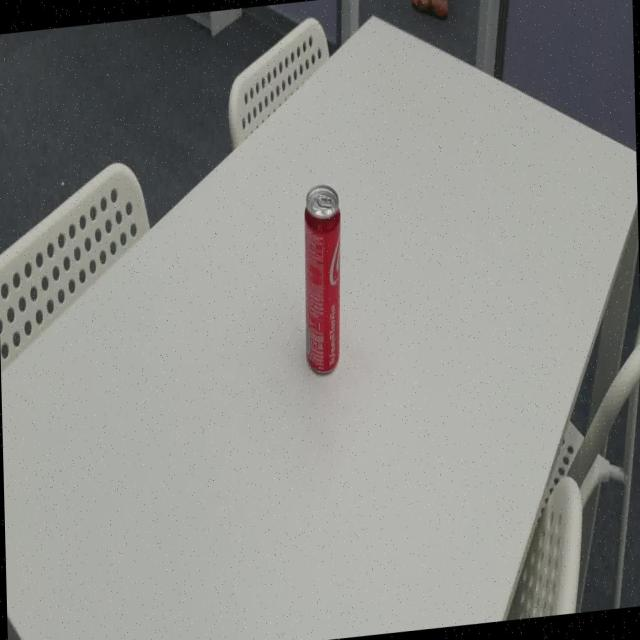coca-cola: (299, 178, 346, 384)
